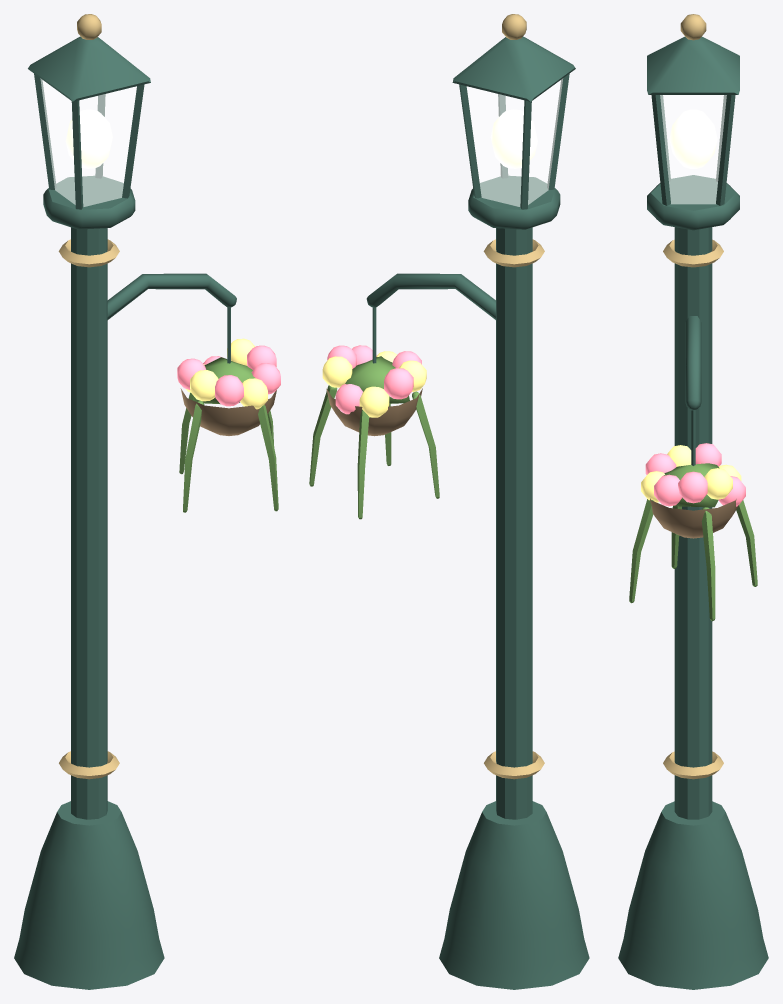
File: lamp_post.glb
3 renders of one model, left to right at view 1: azimuth 30°, elevation 25°; view 2: azimuth 150°, elevation 25°; view 3: azimuth 270°, elevation 25°, orthographic.
Parts seen in each view (by area): view 1: lamp_post; view 2: lamp_post; view 3: lamp_post.
Part boxes in pixels (bbox=[...]): lamp_post: bbox=[14, 14, 280, 989]; lamp_post: bbox=[309, 14, 589, 989]; lamp_post: bbox=[618, 14, 768, 989].
Size of the model in its own units: 0.5596 by 1.93 by 0.28.
